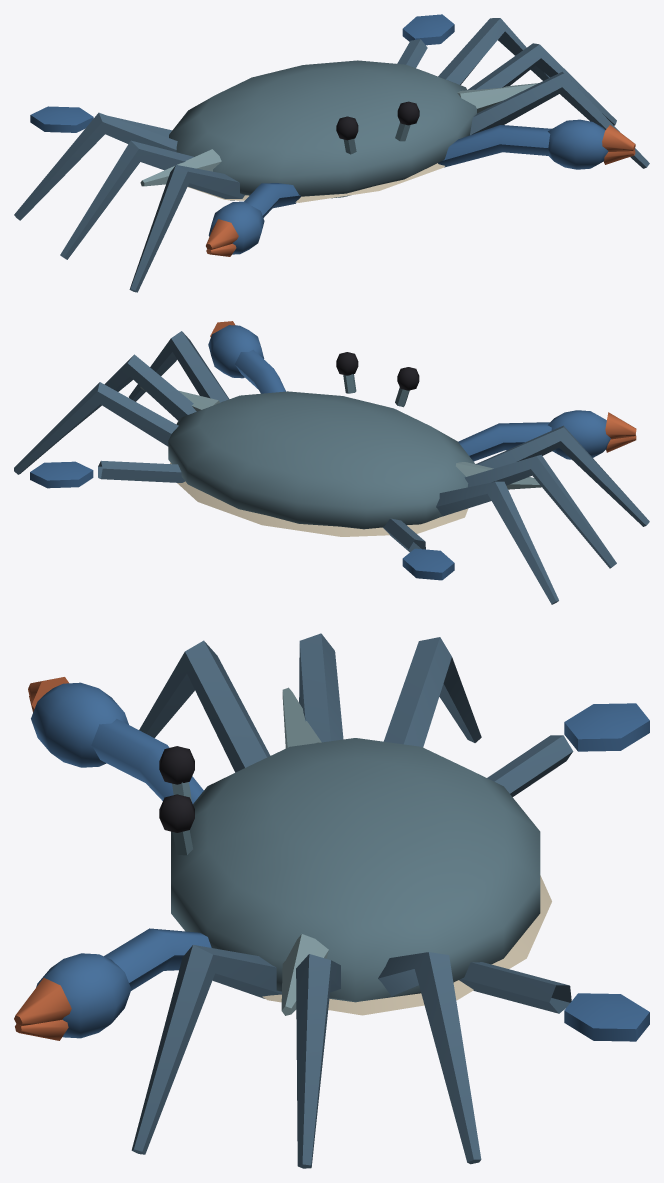
The model's file is crab-gazami.glb.
3 views of the same model, one above another, from view 1: azimuth 30°, elevation 25°; view 2: azimuth 150°, elevation 25°; view 3: azimuth 270°, elevation 25° (orthographic). The views are drawn at different scales.
Visible parts, largest first — view 1: crab-swimmer; view 2: crab-swimmer; view 3: crab-swimmer.
Part boxes in pixels (x1,y1,x2,y2): crab-swimmer: [14, 14, 649, 292]; crab-swimmer: [14, 321, 649, 604]; crab-swimmer: [14, 633, 649, 1168].
Size of the model in its own units: 0.4547 by 0.0881 by 0.2781.
